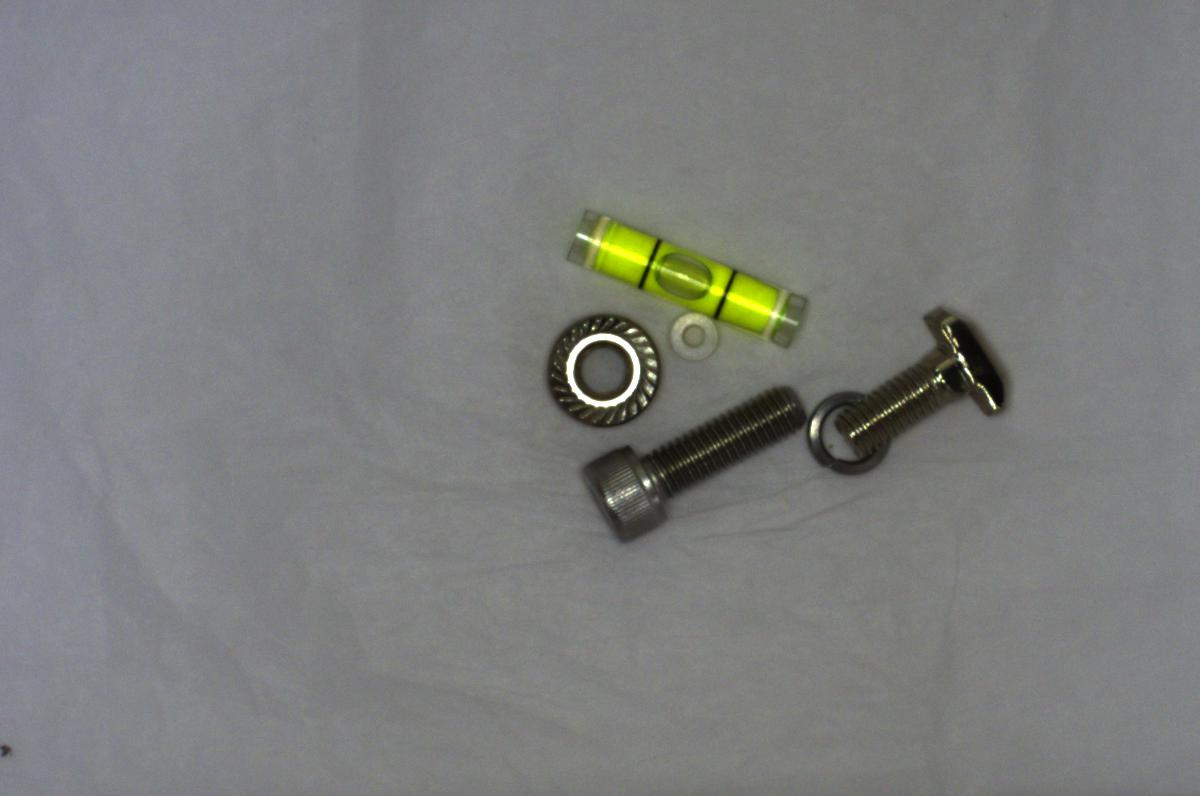Flange nut: (538, 300, 667, 436)
Hexagon screw: (573, 377, 808, 536)
Horizontal bubble: (558, 204, 811, 350)
Plastic cushion pillar: (660, 310, 732, 359)
Spring washer: (794, 383, 894, 482)
T-shaped screw: (841, 299, 1035, 462)
